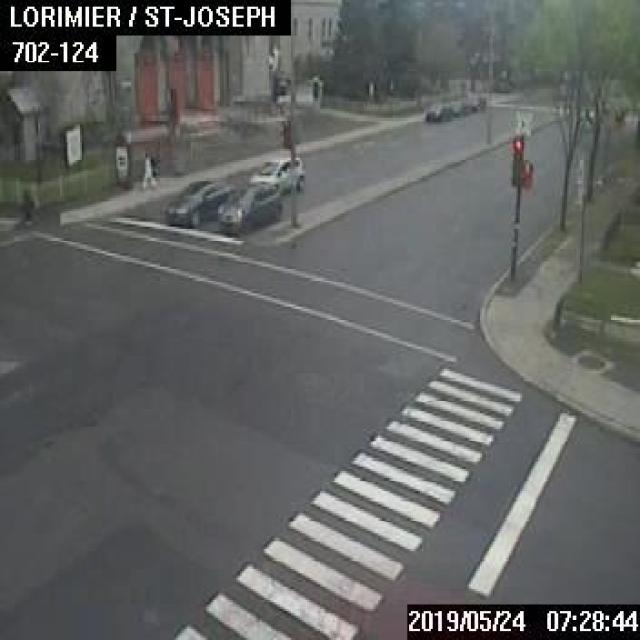pedestrian: (140, 151, 155, 187)
vehicle: (165, 177, 228, 226), (216, 186, 281, 230), (247, 154, 304, 192), (424, 100, 450, 120), (448, 98, 469, 115), (468, 92, 485, 110)
